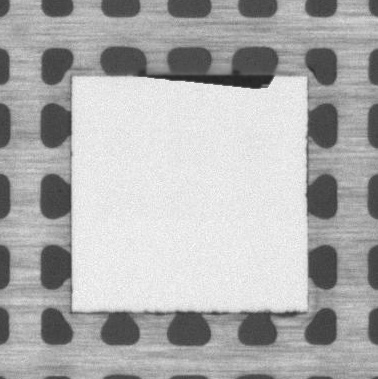DIE_BROKEN: (137, 71, 276, 91)
